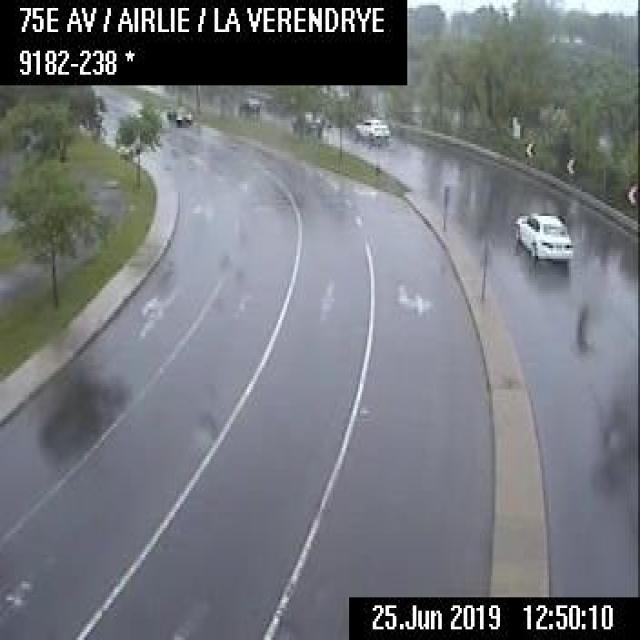vehicle: (511, 208, 573, 261), (353, 115, 391, 143), (290, 111, 324, 136), (164, 101, 195, 126), (238, 93, 262, 115)
